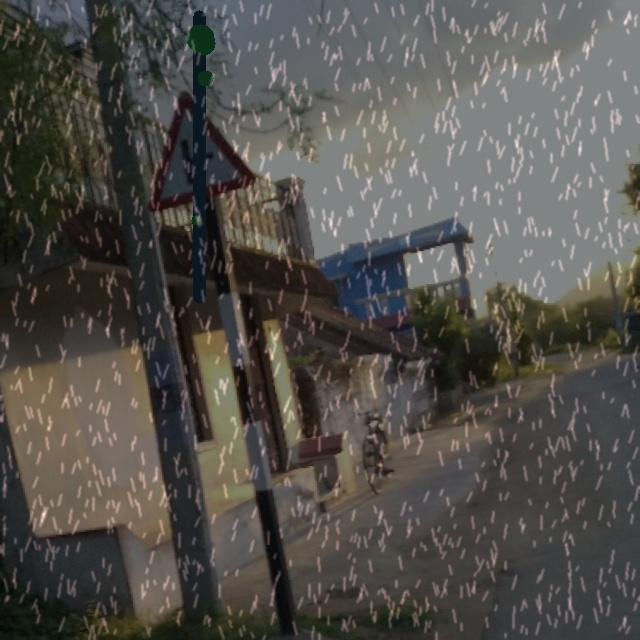Side_Road_Right: (138, 89, 260, 213)
